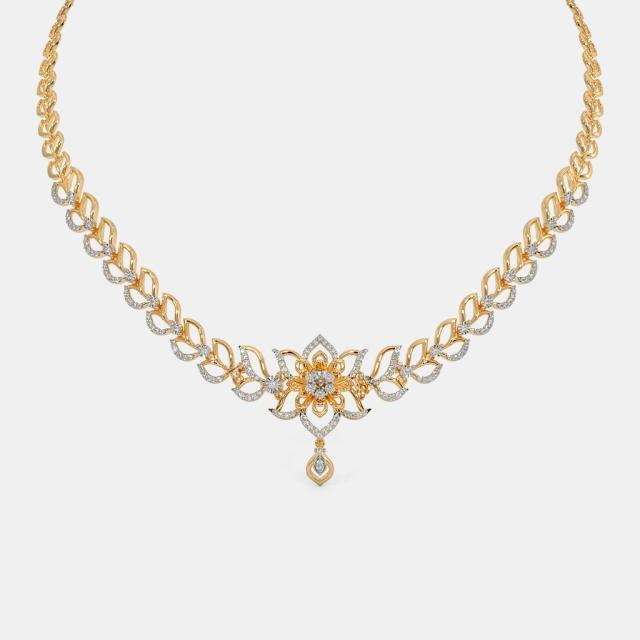missing gem: (229, 366, 240, 379), (315, 379, 327, 389)
